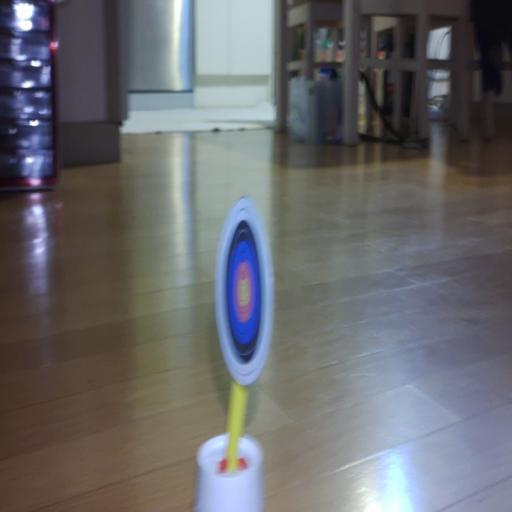target: (215, 198, 273, 385)
